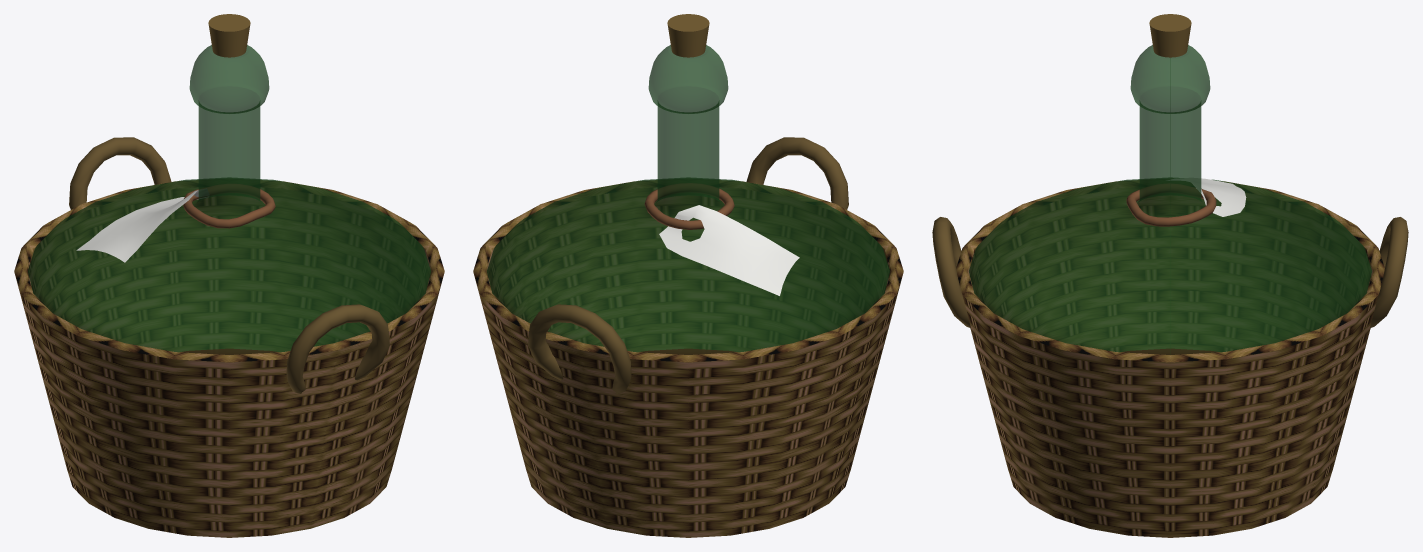
File: OT_174_antique_demijohn_bottle.glb
The picture shows the model from 3 angles, left to right: view 1: azimuth 30°, elevation 25°; view 2: azimuth 150°, elevation 25°; view 3: azimuth 270°, elevation 25°; orthographic projection.
Visible parts, largest first — view 1: container, bottle, handles, label, cord, label_reverse; view 2: container, bottle, handles, label, label_reverse, cord; view 3: container, bottle, handles, cord, label.
Part boxes in pixels (<box>): container: <box>14,180,444,537</box>; bottle: <box>28,14,430,354</box>; handles: <box>69,137,389,393</box>; label: <box>76,189,208,262</box>; cord: <box>183,184,275,228</box>; label_reverse: <box>78,191,198,260</box>; container: <box>473,180,903,537</box>; bottle: <box>487,14,889,354</box>; handles: <box>528,137,848,393</box>; label: <box>659,205,799,295</box>; label_reverse: <box>661,205,798,294</box>; cord: <box>644,183,734,229</box>; container: <box>956,180,1384,537</box>; bottle: <box>969,14,1371,354</box>; handles: <box>932,217,1408,327</box>; cord: <box>1126,183,1216,226</box>; label: <box>1169,178,1246,216</box>.
Size of the model in its own units: 1.35 by 1.54 by 1.49.
Materials: 9 (3 with a texture image).
